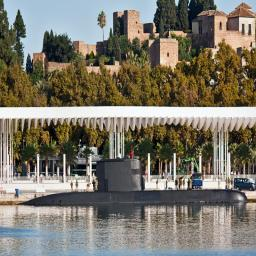submarine: (21, 160, 249, 206)
